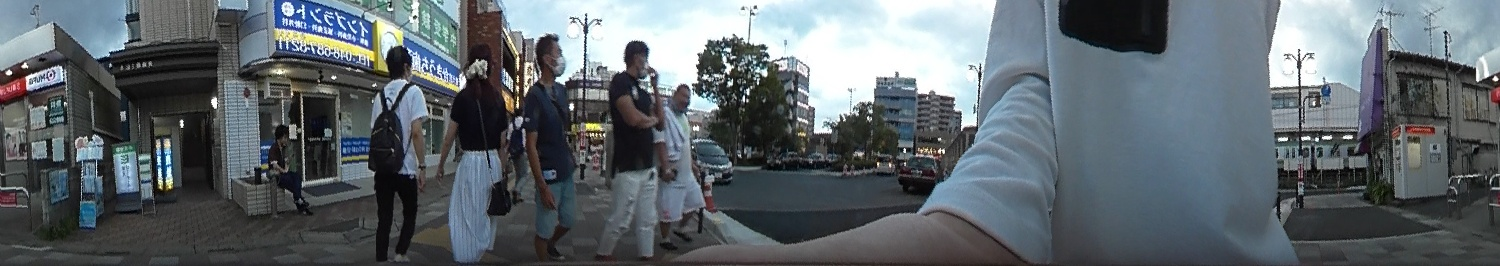difficult_person: (504, 104, 530, 204)
person: (598, 27, 664, 266), (435, 45, 506, 265), (524, 28, 583, 263), (362, 41, 423, 258), (662, 84, 710, 245), (257, 113, 311, 214)
